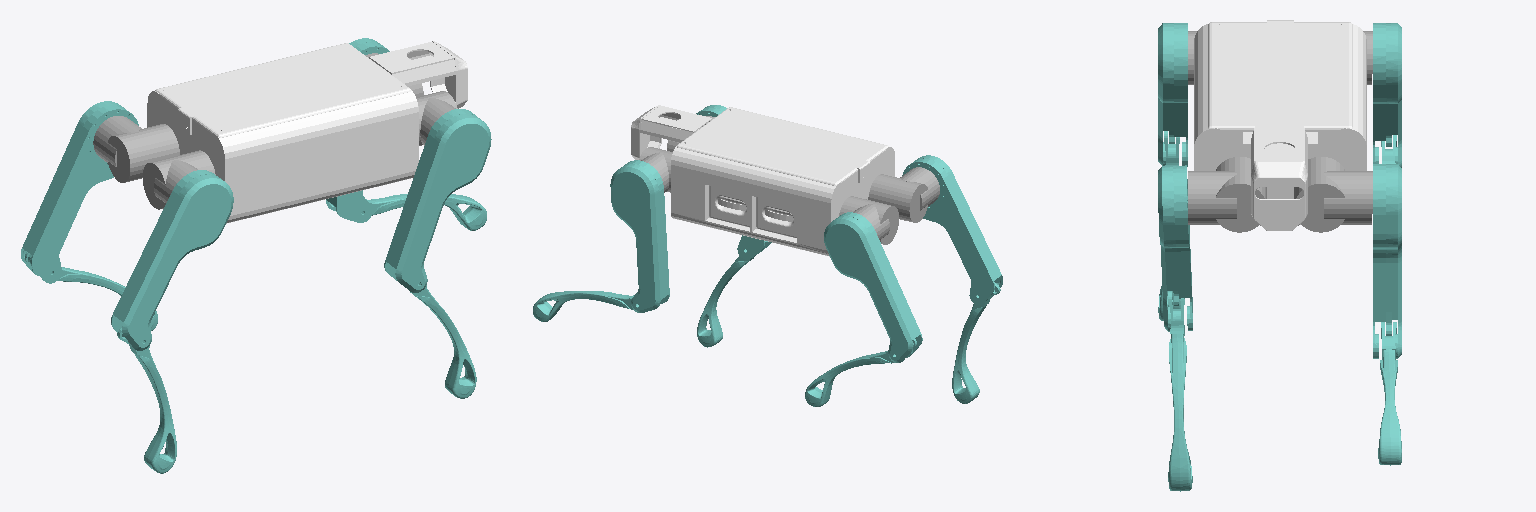
URDF robot description (dog1):
<?xml version="1.0" encoding="utf-8"?>
<!-- This URDF was automatically created by SolidWorks to URDF Exporter! Originally created by Stephen Brawner (brawner@gmail.com) 
     Commit Version: 1.6.0-4-g7f85cfe  Build Version: 1.6.7995.38578
     For more information, please see http://wiki.ros.org/sw_urdf_exporter -->
<robot
  name="dog1">
  <link
    name="base_link">
    <inertial>
      <origin
        xyz="0.0029114 0.0090469 0.098327"
        rpy="0 0 0" />
      <mass
        value="13.967" />
      <inertia
        ixx="0.13646"
        ixy="-9.7018E-05"
        ixz="0.00035665"
        iyy="0.17183"
        iyz="-0.00092667"
        izz="0.2882" />
    </inertial>
    <visual>
      <origin
        xyz="0 0 0"
        rpy="0 0 0" />
      <geometry>
        <mesh
          filename="package://dog1/meshes/base_link.STL" />
      </geometry>
      <material
        name="">
        <color
          rgba="1 1 1 1" />
      </material>
    </visual>
    <collision>
      <origin
        xyz="0 0 0"
        rpy="0 0 0" />
      <geometry>
        <mesh
          filename="package://dog1/meshes/base_link.STL" />
      </geometry>
    </collision>
  </link>
  <link
    name="Link_fr_hip">
    <inertial>
      <origin
        xyz="0.050025 -0.02751 -0.00086592"
        rpy="0 0 0" />
      <mass
        value="5.2076" />
      <inertia
        ixx="0.0065222"
        ixy="-1.939E-06"
        ixz="2.8978E-05"
        iyy="0.0084515"
        iyz="0.00011498"
        izz="0.0050549" />
    </inertial>
    <visual>
      <origin
        xyz="0 0 0"
        rpy="0 1.57 0" />
      <geometry>
        <cylinder length="0.25" radius="0.05" />
      </geometry>
      <material
        name="">
        <color
          rgba="0.75294 0.75294 0.75294 1" />
      </material>
    </visual>
    <visual>
      <origin
        xyz="0.08 -0.05 0"
        rpy="1.57 0 0" />
      <geometry>
        <cylinder length="0.09" radius="0.05" />
      </geometry>
      <material
        name="">
        <color
          rgba="0.75294 0.75294 0.75294 1" />
      </material>
    </visual>
    <collision>
      <origin
        xyz="0 0 0"
        rpy="0 1.57 0" />
      <geometry>
        <cylinder length="0.25" radius="0.05" />
      </geometry>
    </collision>
     <collision>
      <origin
        xyz="0.08 -0.05 0"
        rpy="1.57 0 0" />
      <geometry>
        <cylinder length="0.09" radius="0.05" />
      </geometry>
    </collision>
  </link>
  <joint
    name="joint_fr_hip"
    type="revolute">
    <origin
      xyz="0.225 -0.075 0.09"
      rpy="0 0 0" />
    <parent
      link="base_link" />
    <child
      link="Link_fr_hip" />
    <axis
      xyz="1 0 0" />
    <limit
      lower="-1.0471975511965976"
      upper="1.0471975511965976"
      effort="0"
      velocity="0" />
  </joint>
  <link
    name="Link_fr_thigh">
    <inertial>
      <origin
        xyz="-0.056189 -0.021572 -0.10924"
        rpy="0 0 0" />
      <mass
        value="1.0799" />
      <inertia
        ixx="0.0115"
        ixy="0.0001699"
        ixz="-0.0047945"
        iyy="0.014858"
        iyz="0.00039391"
        izz="0.0034936" />
    </inertial>
    <visual>
      <origin
        xyz="0 0 0"
        rpy="0 0 0" />
      <geometry>
        <mesh
          filename="package://dog1/meshes/Link_fr_thigh.STL" />
      </geometry>
      <material
        name="">
        <color
          rgba="0.53333 0.85098 0.82353 1" />
      </material>
    </visual>
    <collision>
      <origin
        xyz="0 0 0"
        rpy="0 0 0" />
      <geometry>
        <mesh
          filename="package://dog1/meshes/Link_fr_thigh.STL" />
      </geometry>
    </collision>
  </link>
  <joint
    name="joint_fr_thigh"
    type="revolute">
    <origin
      xyz="0.082498 -0.098698 -0.003211"
      rpy="0 0 0" />
    <parent
      link="Link_fr_hip" />
    <child
      link="Link_fr_thigh" />
    <axis
      xyz="0 1 0" />
    <limit
      lower="-1.57"
      upper="3.49"
      effort="0"
      velocity="0" />
  </joint>
  <link
    name="Link_fr_calf">
    <inertial>
      <origin
        xyz="0.078661 0.0033717 -0.15626"
        rpy="0 0 0" />
      <mass
        value="0.68278" />
      <inertia
        ixx="0.0042709"
        ixy="-3.1725E-05"
        ixz="0.0014753"
        iyy="0.0049134"
        iyz="9.2907E-05"
        izz="0.00076574" />
    </inertial>
    <visual>
      <origin
        xyz="0 0 0"
        rpy="0 0 0" />
      <geometry>
        <mesh
          filename="package://dog1/meshes/Link_fr_calf.STL" />
      </geometry>
      <material
        name="">
        <color
          rgba="0.53333 0.85098 0.82353 1" />
      </material>
    </visual>
    <collision>
      <origin
        xyz="0 0 0"
        rpy="0 0 0" />
      <geometry>
        <mesh
          filename="package://dog1/meshes/Link_fr_calf.STL" />
      </geometry>
    </collision>
  </link>
  <joint
    name="joint_fr_calf"
    type="revolute">
    <origin
      xyz="-0.10638 -0.017018 -0.29188"
      rpy="0 0 0" />
    <parent
      link="Link_fr_thigh" />
    <child
      link="Link_fr_calf" />
    <axis
      xyz="0 1 0" />
    <limit
      lower="-0.8377580409572781"
      upper="1.0471975511965976"
      effort="0"
      velocity="0" />
  </joint>
  <link
    name="Link_fl_hip">
    <inertial>
      <origin
        xyz="0.050025 0.027523 -2.9067E-05"
        rpy="0 0 0" />
      <mass
        value="5.2076" />
      <inertia
        ixx="0.0065222"
        ixy="9.957E-07"
        ixz="-2.9026E-05"
        iyy="0.0084554"
        iyz="4.3467E-06"
        izz="0.005051" />
    </inertial>
    <visual>
      <origin
        xyz="0 0 0"
        rpy="0 1.57 0" />
      <geometry>
        <cylinder length="0.25" radius="0.05" />
      </geometry>
      <material
        name="">
        <color
          rgba="0.75294 0.75294 0.75294 1" />
      </material>
    </visual>
    <visual>
      <origin
        xyz="0.08 0.05 0"
        rpy="1.57 0 0" />
      <geometry>
        <cylinder length="0.09" radius="0.05" />
      </geometry>
      <material
        name="">
        <color
          rgba="0.75294 0.75294 0.75294 1" />
      </material>
    </visual>
    <collision>
      <origin
        xyz="0 0 0"
        rpy="0 1.57 0" />
      <geometry>
        <cylinder length="0.25" radius="0.05" />
      </geometry>
    </collision>
    <collision>
      <origin
        xyz="0.08 0.05 0"
        rpy="1.57 0 0" />
      <geometry>
        <cylinder length="0.09" radius="0.05" />
      </geometry>
    </collision>
  </link>
  <joint
    name="joint_fl_hip"
    type="revolute">
    <origin
      xyz="0.225 0.075 0.09"
      rpy="0 0 0" />
    <parent
      link="base_link" />
    <child
      link="Link_fl_hip" />
    <axis
      xyz="1 0 0" />
    <limit
      lower="-1.0471975511965976"
      upper="1.0471975511965976"
      effort="0"
      velocity="0" />
  </joint>
  <link
    name="Link_fl_thigh">
    <inertial>
      <origin
        xyz="-0.023612 0.025112 -0.12115"
        rpy="0 0 0" />
      <mass
        value="1.0799" />
      <inertia
        ixx="0.013482"
        ixy="-6.4816E-06"
        ixz="-0.0017863"
        iyy="0.014871"
        iyz="-2.6756E-05"
        izz="0.0014982" />
    </inertial>
    <visual>
      <origin
        xyz="0 0 0"
        rpy="0 0 0" />
      <geometry>
        <mesh
          filename="package://dog1/meshes/Link_fl_thigh.STL" />
      </geometry>
      <material
        name="">
        <color
          rgba="0.53333 0.85098 0.82353 1" />
      </material>
    </visual>
    <collision>
      <origin
        xyz="0 0 0"
        rpy="0 0 0" />
      <geometry>
        <mesh
          filename="package://dog1/meshes/Link_fl_thigh.STL" />
      </geometry>
    </collision>
  </link>
  <joint
    name="joint_fl_thigh"
    type="revolute">
    <origin
      xyz="0.082498 0.09875 0"
      rpy="0 0 0" />
    <parent
      link="Link_fl_hip" />
    <child
      link="Link_fl_thigh" />
    <axis
      xyz="0 1 0" />
    <limit
      lower="-1.3439035240356338"
      upper="3.717551306747922"
      effort="0"
      velocity="0" />
  </joint>
  <link
    name="Link_fl_calf">
    <inertial>
      <origin
        xyz="0.17024 0.0017114 -0.04039"
        rpy="0 0 0" />
      <mass
        value="0.68278" />
      <inertia
        ixx="0.00076312"
        ixy="-4.2679E-05"
        ixz="0.0014744"
        iyy="0.0049149"
        iyz="1.4641E-05"
        izz="0.0042717" />
    </inertial>
    <visual>
      <origin
        xyz="0 0 0"
        rpy="0 0 0" />
      <geometry>
        <mesh
          filename="package://dog1/meshes/Link_fl_calf.STL" />
      </geometry>
      <material
        name="">
        <color
          rgba="0.53333 0.85098 0.82353 1" />
      </material>
    </visual>
    <collision>
      <origin
        xyz="0 0 0"
        rpy="0 0 0" />
      <geometry>
        <mesh
          filename="package://dog1/meshes/Link_fl_calf.STL" />
      </geometry>
    </collision>
  </link>
  <joint
    name="joint_fl_calf"
    type="revolute">
    <origin
      xyz="-0.017956 0.0265 -0.30948"
      rpy="0 0 0" />
    <parent
      link="Link_fl_thigh" />
    <child
      link="Link_fl_calf" />
    <axis
      xyz="0 1 0" />
    <limit
      lower="-0.19198621771937624"
      upper="1.6929693744344996"
      effort="0"
      velocity="0" />
  </joint>
  <link
    name="Link_hl_hip">
    <inertial>
      <origin
        xyz="-0.050025 0.027523 2.9067E-05"
        rpy="0 0 0" />
      <mass
        value="5.2076" />
      <inertia
        ixx="0.0065222"
        ixy="-9.957E-07"
        ixz="-2.9026E-05"
        iyy="0.0084554"
        iyz="-4.3467E-06"
        izz="0.005051" />
    </inertial>
    <visual>
      <origin
        xyz="0 0 0"
        rpy="0 1.57 0" />
      <geometry>
        <cylinder length="0.25" radius="0.05" />
      </geometry>
      <material
        name="">
        <color
          rgba="0.75294 0.75294 0.75294 1" />
      </material>
    </visual>
    <visual>
      <origin
        xyz="-0.08 0.05 0"
        rpy="1.57 0 0" />
      <geometry>
        <cylinder length="0.09" radius="0.05" />
      </geometry>
      <material
        name="">
        <color
          rgba="0.75294 0.75294 0.75294 1" />
      </material>
    </visual>
    <collision>
      <origin
        xyz="0 0 0"
        rpy="0 1.57 0" />
      <geometry>
        <cylinder length="0.25" radius="0.05" />
      </geometry>
    </collision>
    <collision>
      <origin
        xyz="-0.08 0.05 0"
        rpy="1.57 0 0" />
      <geometry>
        <cylinder length="0.09" radius="0.05" />
      </geometry>
    </collision>
  </link>
  <joint
    name="joint_hl_hip"
    type="revolute">
    <origin
      xyz="-0.225 0.075 0.09"
      rpy="0 0 0" />
    <parent
      link="base_link" />
    <child
      link="Link_hl_hip" />
    <axis
      xyz="1 0 0" />
    <limit
      lower="-1.0471975511965976"
      upper="1.0471975511965976"
      effort="0"
      velocity="0" />
  </joint>
  <link
    name="Link_hl_thigh">
    <inertial>
      <origin
        xyz="-0.071808 0.025112 -0.10067"
        rpy="0 0 0" />
      <mass
        value="1.0799" />
      <inertia
        ixx="0.010084"
        ixy="-1.6972E-05"
        ixz="-0.005689"
        iyy="0.014871"
        iyz="-2.1675E-05"
        izz="0.0048961" />
    </inertial>
    <visual>
      <origin
        xyz="0 0 0"
        rpy="0 0 0" />
      <geometry>
        <mesh
          filename="package://dog1/meshes/Link_hl_thigh.STL" />
      </geometry>
      <material
        name="">
        <color
          rgba="0.53333 0.85098 0.82353 1" />
      </material>
    </visual>
    <collision>
      <origin
        xyz="0 0 0"
        rpy="0 0 0" />
      <geometry>
        <mesh
          filename="package://dog1/meshes/Link_hl_thigh.STL" />
      </geometry>
    </collision>
  </link>
  <joint
    name="joint_hl_thigh"
    type="revolute">
    <origin
      xyz="-0.082498 0.09875 0"
      rpy="0 0 0" />
    <parent
      link="Link_hl_hip" />
    <child
      link="Link_hl_thigh" />
    <axis
      xyz="0 1 0" />
    <limit
      lower="-0.7504915783575616"
      upper="4.310963252425994"
      effort="0"
      velocity="0" />
  </joint>
  <link
    name="Link_hl_calf">
    <inertial>
      <origin
        xyz="0.14726 0.0017103 -0.094532"
        rpy="0 0 0" />
      <mass
        value="0.68296" />
      <inertia
        ixx="0.0020701"
        ixy="-3.5417E-05"
        ixz="0.0022475"
        iyy="0.0049149"
        iyz="2.7954E-05"
        izz="0.0029648" />
    </inertial>
    <visual>
      <origin
        xyz="0 0 0"
        rpy="0 0 0" />
      <geometry>
        <mesh
          filename="package://dog1/meshes/Link_hl_calf.STL" />
      </geometry>
      <material
        name="">
        <color
          rgba="0.53333 0.85098 0.82353 1" />
      </material>
    </visual>
    <collision>
      <origin
        xyz="0 0 0"
        rpy="0 0 0" />
      <geometry>
        <mesh
          filename="package://dog1/meshes/Link_hl_calf.STL" />
      </geometry>
    </collision>
  </link>
  <joint
    name="joint_hl_calf"
    type="revolute">
    <origin
      xyz="-0.14441 0.0265 -0.27431"
      rpy="0 0 0" />
    <parent
      link="Link_hl_thigh" />
    <child
      link="Link_hl_calf" />
    <axis
      xyz="0 1 0" />
    <limit
      lower="-0.13962634015954636"
      upper="1.7453292519943295"
      effort="0"
      velocity="0" />
  </joint>
  <link
    name="Link_hr_hip">
    <inertial>
      <origin
        xyz="-0.050025 -0.027523 -2.9067E-05"
        rpy="0 0 0" />
      <mass
        value="5.2076" />
      <inertia
        ixx="0.0065222"
        ixy="9.957E-07"
        ixz="2.9026E-05"
        iyy="0.0084554"
        iyz="-4.3467E-06"
        izz="0.005051" />
    </inertial>
    <visual>
      <origin
        xyz="0 0 0"
        rpy="0 1.57 0" />
      <geometry>
        <cylinder length="0.25" radius="0.05" />
      </geometry>
      <material
        name="">
        <color
          rgba="0.75294 0.75294 0.75294 1" />
      </material>
    </visual>
    <visual>
      <origin
        xyz="-0.08 -0.05 0"
        rpy="1.57 0 0" />
      <geometry>
        <cylinder length="0.09" radius="0.05" />
      </geometry>
      <material
        name="">
        <color
          rgba="0.75294 0.75294 0.75294 1" />
      </material>
    </visual>
    <collision>
      <origin
        xyz="0 0 0"
        rpy="0 1.57 0" />
      <geometry>
        <cylinder length="0.25" radius="0.05" />
      </geometry>
    </collision>
    <collision>
      <origin
        xyz="-0.08 -0.05 0"
        rpy="1.57 0 0" />
      <geometry>
        <cylinder length="0.09" radius="0.05" />
      </geometry>
    </collision>
  </link>
  <joint
    name="joint_hr_hip"
    type="revolute">
    <origin
      xyz="-0.225 -0.075 0.09"
      rpy="0 0 0" />
    <parent
      link="base_link" />
    <child
      link="Link_hr_hip" />
    <axis
      xyz="1 0 0" />
    <limit
      lower="-1.0471975511965976"
      upper="1.0471975511965976"
      effort="0"
      velocity="0" />
  </joint>
  <link
    name="Link_hr_thigh">
    <inertial>
      <origin
        xyz="-0.076128 -0.025113 -0.098839"
        rpy="0 0 0" />
      <mass
        value="1.0799" />
      <inertia
        ixx="0.0096602"
        ixy="1.7747E-05"
        ixz="-0.0058637"
        iyy="0.014871"
        iyz="2.1024E-05"
        izz="0.00532" />
    </inertial>
    <visual>
      <origin
        xyz="0 0 0"
        rpy="0 0 0" />
      <geometry>
        <mesh
          filename="package://dog1/meshes/Link_hr_thigh.STL" />
      </geometry>
      <material
        name="">
        <color
          rgba="0.53333 0.85098 0.82353 1" />
      </material>
    </visual>
    <collision>
      <origin
        xyz="0 0 0"
        rpy="0 0 0" />
      <geometry>
        <mesh
          filename="package://dog1/meshes/Link_hr_thigh.STL" />
      </geometry>
    </collision>
  </link>
  <joint
    name="joint_hr_thigh"
    type="revolute">
    <origin
      xyz="-0.082498 -0.09875 0"
      rpy="0 0 0" />
    <parent
      link="Link_hr_hip" />
    <child
      link="Link_hr_thigh" />
    <axis
      xyz="0 1 0" />
    <limit
      lower="-0.7853981633974483"
      upper="4.276056667386107"
      effort="0"
      velocity="0" />
  </joint>
  <link
    name="Link_hr_calf">
    <inertial>
      <origin
        xyz="0.17192 -0.0017111 -0.032507"
        rpy="0 0 0" />
      <mass
        value="0.68278" />
      <inertia
        ixx="0.0006349"
        ixy="4.3302E-05"
        ixz="0.0013067"
        iyy="0.004915"
        iyz="-1.2659E-05"
        izz="0.0044" />
    </inertial>
    <visual>
      <origin
        xyz="0 0 0"
        rpy="0 0 0" />
      <geometry>
        <mesh
          filename="package://dog1/meshes/Link_hr_calf.STL" />
      </geometry>
      <material
        name="">
        <color
          rgba="0.53333 0.85098 0.82353 1" />
      </material>
    </visual>
    <collision>
      <origin
        xyz="0 0 0"
        rpy="0 0 0" />
      <geometry>
        <mesh
          filename="package://dog1/meshes/Link_hr_calf.STL" />
      </geometry>
    </collision>
  </link>
  <joint
    name="joint_hr_calf"
    type="revolute">
    <origin
      xyz="-0.15438 -0.0265 -0.26883"
      rpy="0 0 0" />
    <parent
      link="Link_hr_thigh" />
    <child
      link="Link_hr_calf" />
    <axis
      xyz="0 1 0" />
    <limit
      lower="0.20943951023931953"
      upper="2.0943951023931953"
      effort="0"
      velocity="0" />
  </joint>
</robot>

--- What the picture shows (computed from the rendered views, not written in the file) ---
The picture shows the robot from 3 angles, left to right: view 1: azimuth 30°, elevation 25°; view 2: azimuth 150°, elevation 25°; view 3: azimuth 270°, elevation 25°; orthographic projection.
Model dog1 with 13 links and 12 joints (12 revolute), rooted at base_link, posed joints at zero except 1 at the middle of their limits (joint_hr_calf = 1.15).
Visible links, largest first — view 1: base_link, Link_hr_thigh, Link_fr_thigh, Link_hl_thigh, Link_hl_hip, Link_hr_calf, Link_hr_hip, Link_fr_calf, Link_fl_calf, Link_fl_thigh, Link_fr_hip, Link_hl_calf; view 2: base_link, Link_hl_thigh, Link_fl_thigh, Link_hr_thigh, Link_hr_hip, Link_hr_calf, Link_hl_hip, Link_fl_calf, Link_fr_calf, Link_hl_calf, Link_fl_hip, Link_fr_thigh; view 3: base_link, Link_fl_thigh, Link_fr_thigh, Link_fl_hip, Link_fr_hip, Link_hr_thigh, Link_hl_thigh, Link_fr_calf, Link_fl_calf, Link_hr_calf.
Link boxes in pixels (box(x1,y1,x2,y2)): base_link: box(147, 41, 467, 223); Link_hr_thigh: box(111, 170, 233, 350); Link_fr_thigh: box(384, 109, 491, 292); Link_hl_thigh: box(21, 101, 138, 283); Link_hl_hip: box(93, 116, 179, 182); Link_hr_calf: box(128, 340, 176, 473); Link_hr_hip: box(143, 150, 215, 209); Link_fr_calf: box(410, 283, 476, 398); Link_fl_calf: box(332, 194, 486, 230); Link_fl_thigh: box(326, 38, 389, 222); Link_fr_hip: box(416, 91, 457, 145); Link_hl_calf: box(25, 252, 157, 330); base_link: box(631, 105, 894, 256); Link_hl_thigh: box(824, 212, 922, 362); Link_fl_thigh: box(610, 160, 669, 312); Link_hr_thigh: box(902, 155, 1002, 304); Link_hr_hip: box(868, 167, 939, 222); Link_hr_calf: box(952, 295, 990, 403); Link_hl_hip: box(839, 196, 898, 244); Link_fl_calf: box(533, 291, 638, 321); Link_fr_calf: box(697, 249, 755, 347); Link_hl_calf: box(805, 339, 916, 406); Link_fl_hip: box(639, 147, 672, 192); Link_fr_thigh: box(696, 105, 771, 259); base_link: box(1194, 20, 1366, 230); Link_fl_thigh: box(1373, 164, 1401, 358); Link_fr_thigh: box(1158, 165, 1192, 331); Link_fl_hip: box(1294, 157, 1372, 232); Link_fr_hip: box(1188, 157, 1266, 232); Link_hr_thigh: box(1158, 23, 1187, 166); Link_hl_thigh: box(1373, 23, 1401, 167); Link_fr_calf: box(1168, 291, 1192, 491); Link_fl_calf: box(1378, 322, 1401, 465); Link_hr_calf: box(1158, 131, 1180, 320).
Bounding box of the posed robot: 1.11 × 0.4522 × 0.7015 m (x, y, z).
9 mesh visuals loaded from 9 distinct referenced files (9 binary STL).
